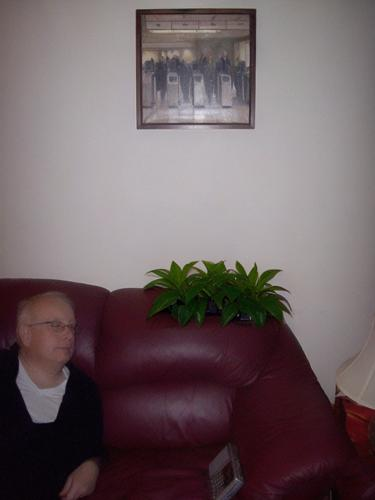person: (3, 291, 104, 500)
person/hand: (58, 462, 99, 500)
person/head: (16, 293, 79, 367)
pottedplant: (145, 261, 293, 327)
sofa: (2, 278, 357, 500)
